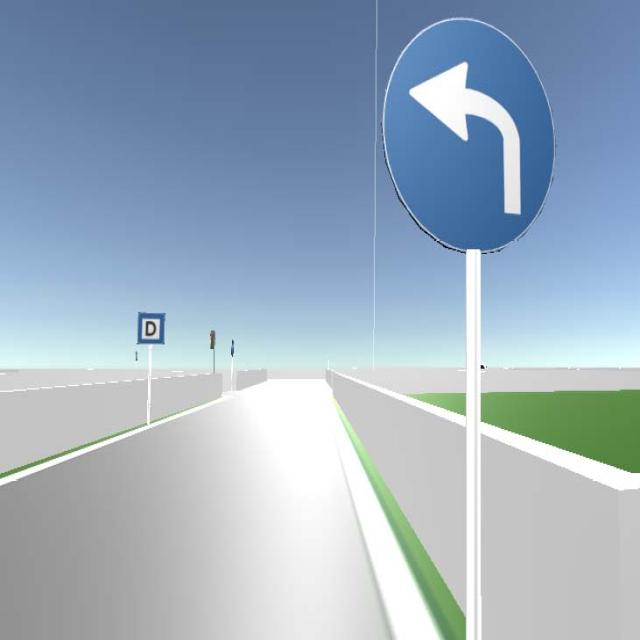durak: (138, 312, 164, 344)
sol: (381, 16, 555, 254)
